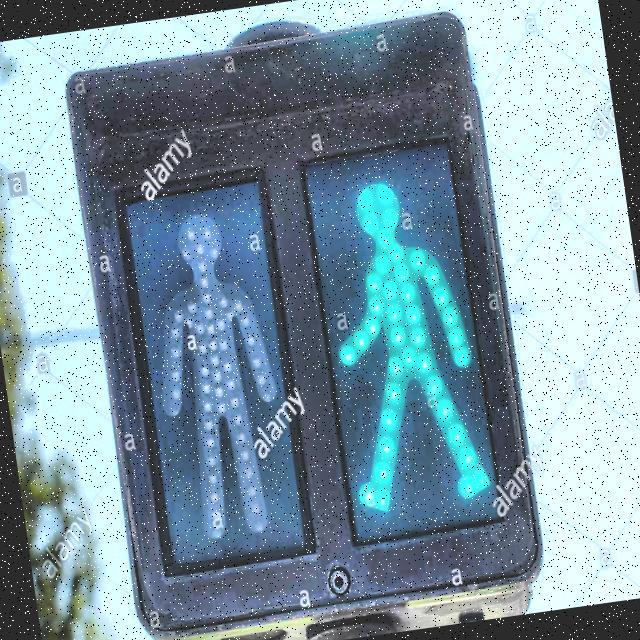green_light: (311, 164, 498, 522)
